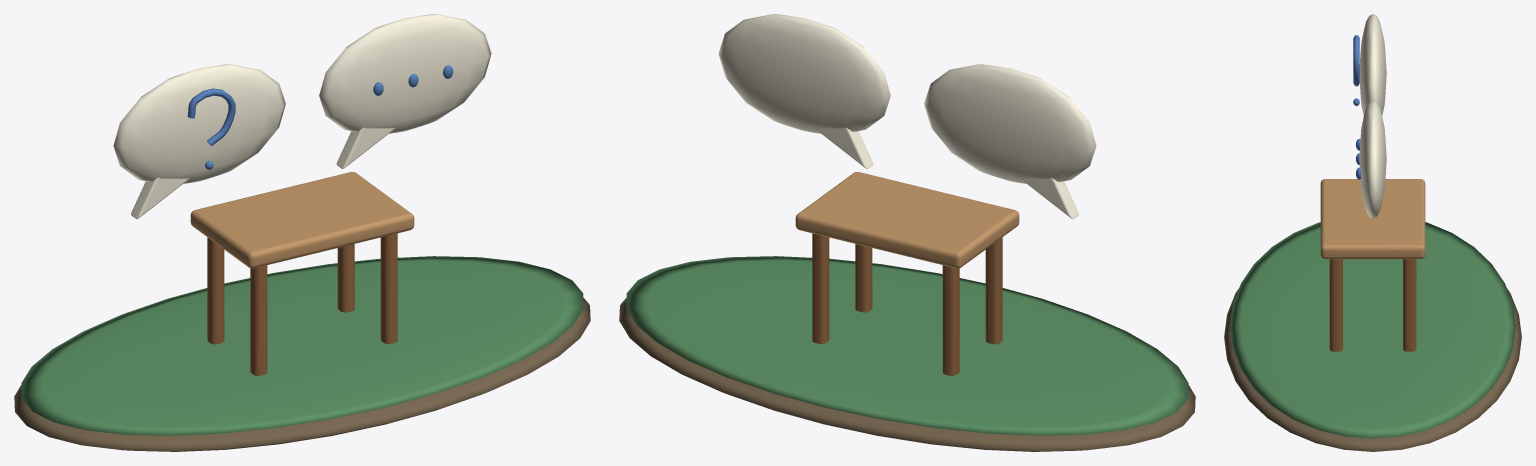
The model's file is complete-second-asking-debate.glb.
3 views of the same model, side by side, from view 1: azimuth 30°, elevation 25°; view 2: azimuth 150°, elevation 25°; view 3: azimuth 270°, elevation 25° (orthographic). The views are drawn at different scales.
Parts seen in each view (by area): view 1: complete-second-asking-debate_surface_01, complete-second-asking-debate_surface_02, complete-second-asking-debate_surface_04, complete-second-asking-debate_surface_00, complete-second-asking-debate_surface_05, complete-second-asking-debate_surface_03; view 2: complete-second-asking-debate_surface_01, complete-second-asking-debate_surface_02, complete-second-asking-debate_surface_04, complete-second-asking-debate_surface_00, complete-second-asking-debate_surface_05; view 3: complete-second-asking-debate_surface_01, complete-second-asking-debate_surface_04, complete-second-asking-debate_surface_00, complete-second-asking-debate_surface_02, complete-second-asking-debate_surface_05, complete-second-asking-debate_surface_03.
Boxes of the visible parts, x1,y1,x2,y2 form: complete-second-asking-debate_surface_01: (21,256,583,435); complete-second-asking-debate_surface_02: (113,14,491,218); complete-second-asking-debate_surface_04: (190,172,414,268); complete-second-asking-debate_surface_00: (14,298,590,451); complete-second-asking-debate_surface_05: (207,233,397,375); complete-second-asking-debate_surface_03: (187,65,453,169); complete-second-asking-debate_surface_01: (626,256,1188,435); complete-second-asking-debate_surface_02: (718,14,1096,218); complete-second-asking-debate_surface_04: (795,172,1019,268); complete-second-asking-debate_surface_00: (619,298,1195,451); complete-second-asking-debate_surface_05: (812,233,1002,375); complete-second-asking-debate_surface_01: (1230,222,1515,438); complete-second-asking-debate_surface_04: (1320,179,1425,259); complete-second-asking-debate_surface_00: (1224,288,1521,451); complete-second-asking-debate_surface_02: (1359,14,1386,218); complete-second-asking-debate_surface_05: (1329,259,1416,351); complete-second-asking-debate_surface_03: (1353,35,1360,179).
Bounding box in the file's own units: 4.56 × 2.62 × 2.5.
